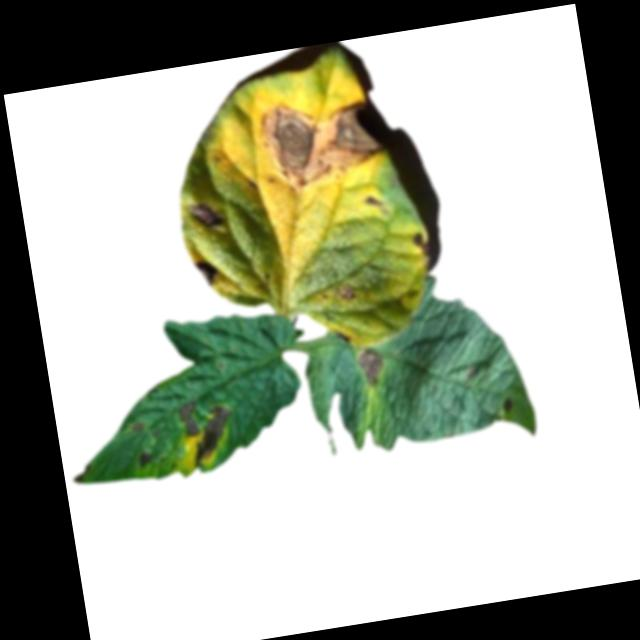Early_blight: (256, 88, 389, 193), (183, 402, 239, 471), (186, 201, 225, 233), (356, 348, 386, 389), (177, 401, 201, 440), (191, 258, 219, 289), (410, 233, 430, 261), (335, 283, 356, 303), (134, 450, 152, 470), (362, 194, 382, 209), (126, 422, 143, 436), (501, 398, 514, 414)
